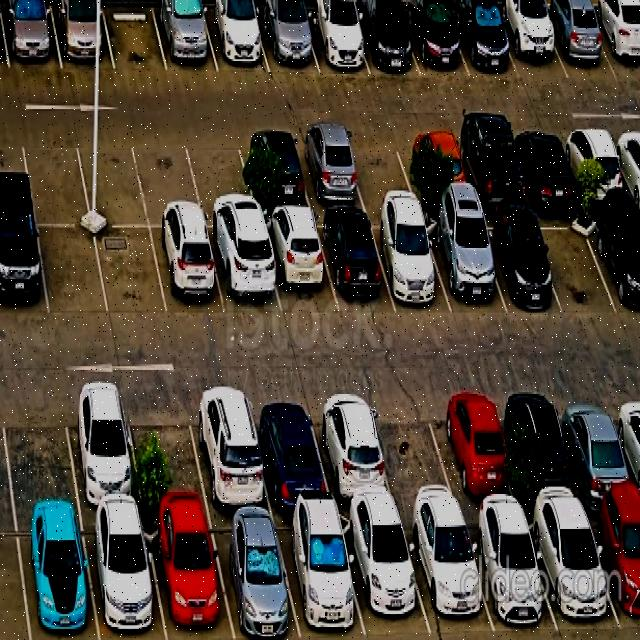empty: (366, 389, 461, 513), (124, 388, 209, 513), (0, 387, 79, 512), (532, 209, 619, 310), (184, 132, 259, 228), (75, 133, 149, 227), (133, 133, 204, 227), (20, 132, 91, 224), (95, 228, 167, 318), (38, 226, 108, 317), (343, 131, 417, 206), (102, 3, 167, 71)
occupied: (525, 510, 623, 640), (208, 515, 301, 640), (274, 514, 366, 640), (463, 513, 558, 634), (143, 515, 234, 640), (339, 514, 431, 637), (401, 514, 494, 635), (431, 388, 520, 512), (307, 391, 397, 512), (81, 513, 166, 640), (187, 386, 272, 512), (15, 514, 98, 640), (247, 390, 333, 511), (555, 387, 640, 509), (503, 387, 585, 511), (62, 386, 143, 511), (422, 216, 507, 314), (475, 215, 560, 312), (368, 215, 451, 313), (260, 214, 338, 316), (315, 214, 395, 312), (585, 506, 640, 633), (150, 229, 226, 316), (207, 230, 282, 315), (451, 130, 529, 209), (237, 132, 312, 211), (587, 208, 640, 317), (398, 131, 473, 207), (293, 132, 366, 209), (539, 7, 617, 79), (494, 7, 568, 81), (509, 128, 581, 203), (560, 127, 630, 202), (450, 4, 519, 78), (402, 4, 470, 77), (351, 7, 420, 76), (0, 221, 48, 317), (202, 5, 270, 72), (152, 4, 218, 73), (301, 9, 369, 74), (50, 4, 115, 69), (255, 9, 319, 72), (0, 4, 62, 69), (589, 8, 640, 79)
